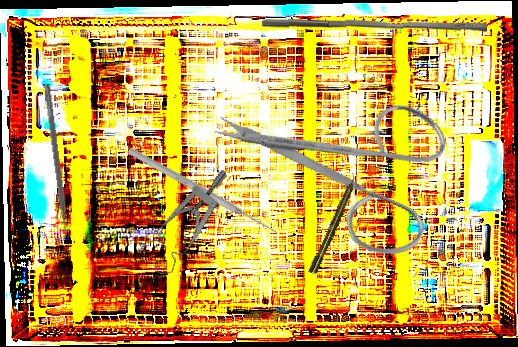Handpiece: (307, 172, 361, 276)
Iris Scissors: (206, 41, 478, 303)
Pusher: (125, 145, 281, 238), (261, 15, 488, 36)
Spatula Surgical: (37, 83, 72, 242)
Speculum: (125, 168, 256, 281)
